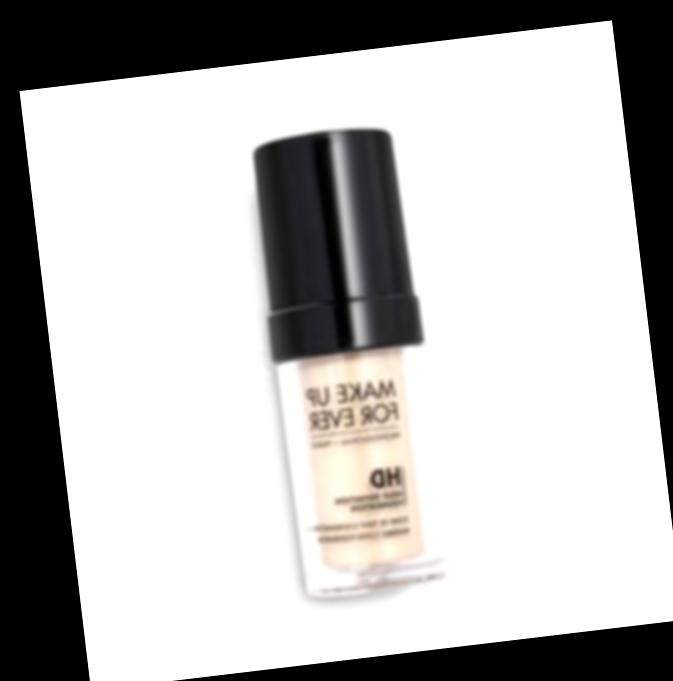cosmetic: (242, 121, 458, 602)
